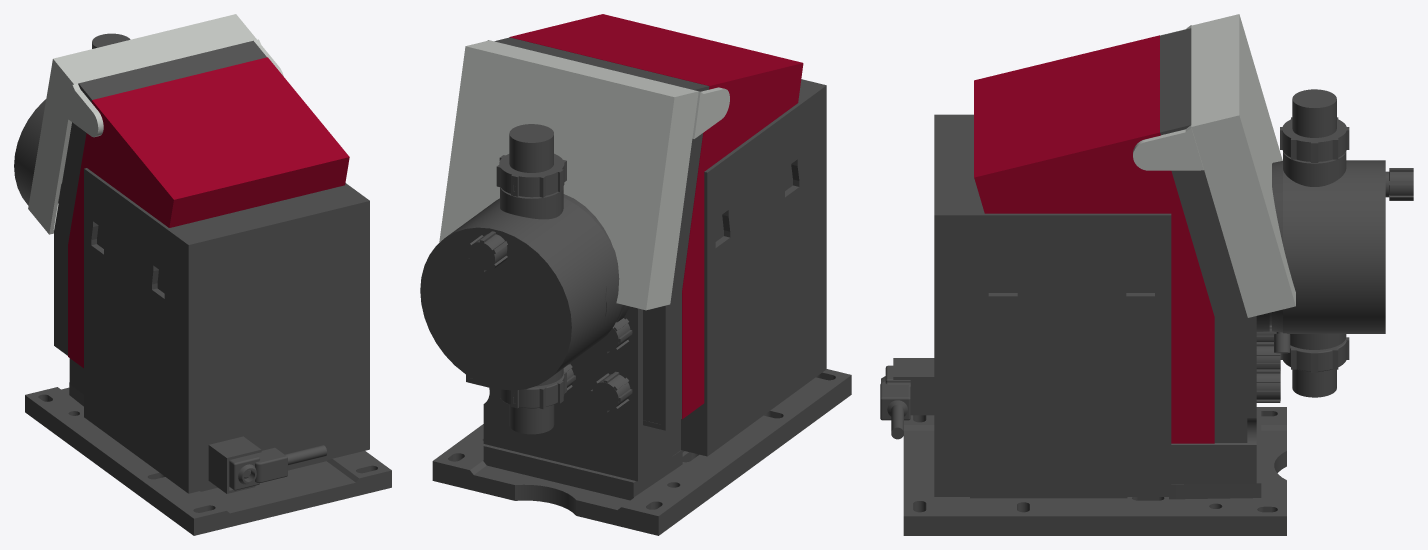
Rendered from dda-7-5-16.glb.
The picture shows the model from 3 angles, left to right: view 1: azimuth 30°, elevation 25°; view 2: azimuth 150°, elevation 25°; view 3: azimuth 270°, elevation 25°; orthographic projection. The views are drawn at different scales.
Parts seen in each view (by area): view 1: NAUO8, NAUO5, NAUO6, NAUO7; view 2: NAUO5, NAUO8, NAUO7, NAUO6; view 3: NAUO8, NAUO5, NAUO7, NAUO6.
Boxes of the visible parts, x1,y1,x2,y2 form: NAUO8: (69, 168, 369, 493); NAUO5: (28, 14, 349, 368); NAUO6: (25, 382, 391, 535); NAUO7: (14, 33, 130, 205); NAUO5: (439, 14, 803, 430); NAUO8: (483, 79, 826, 481); NAUO7: (420, 124, 623, 434); NAUO6: (432, 369, 851, 535); NAUO8: (880, 114, 1269, 496); NAUO5: (974, 14, 1295, 443); NAUO7: (1269, 89, 1413, 397); NAUO6: (903, 407, 1286, 535).
Size of the model in its own units: 0.12 by 0.2126 by 0.2468.
